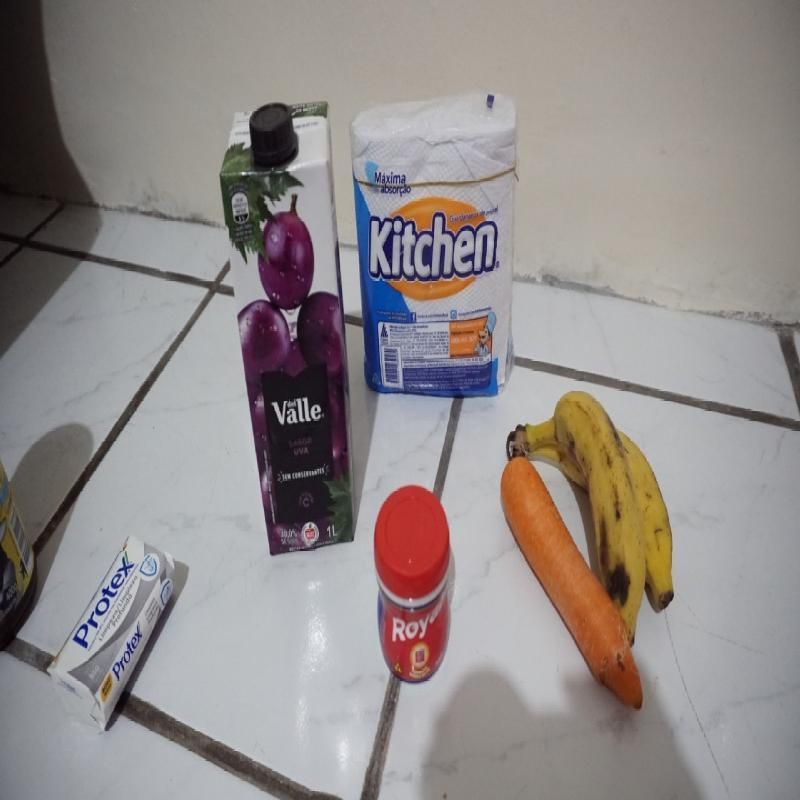Banana: (504, 390, 674, 644)
Carrot: (500, 454, 644, 713)
Chocolate Powder: (1, 439, 40, 652)
Napkin: (348, 86, 524, 398)
Soap: (47, 534, 178, 738)
Yeast: (372, 484, 454, 686)
